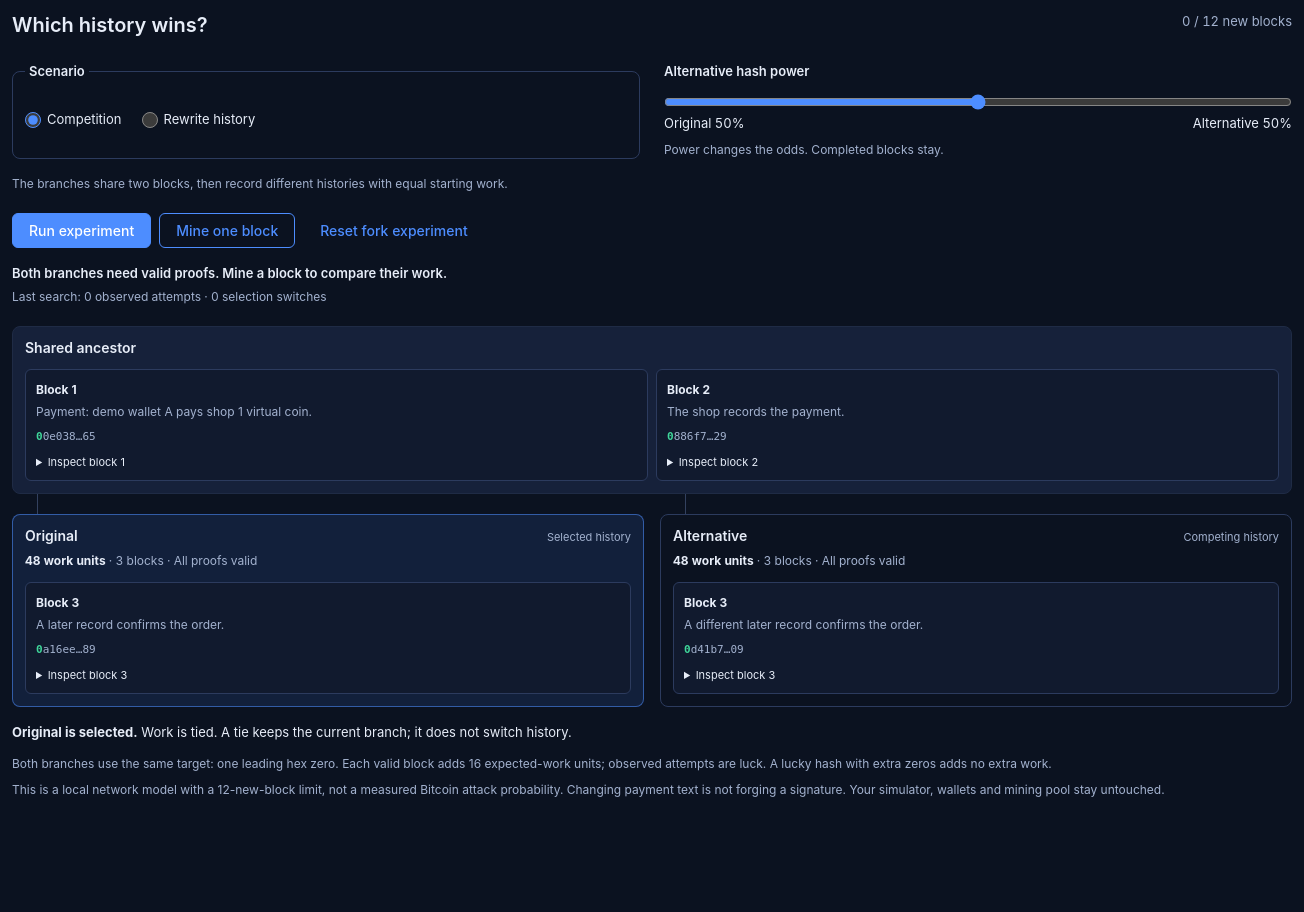
Test: ForkExperiment › requires strictly more work for a rewrite and explains the resulting switch
Click the radio button labelled "Rewrite history" at coordinates (150, 120), box top-left (142, 112), bottom-right (158, 128)
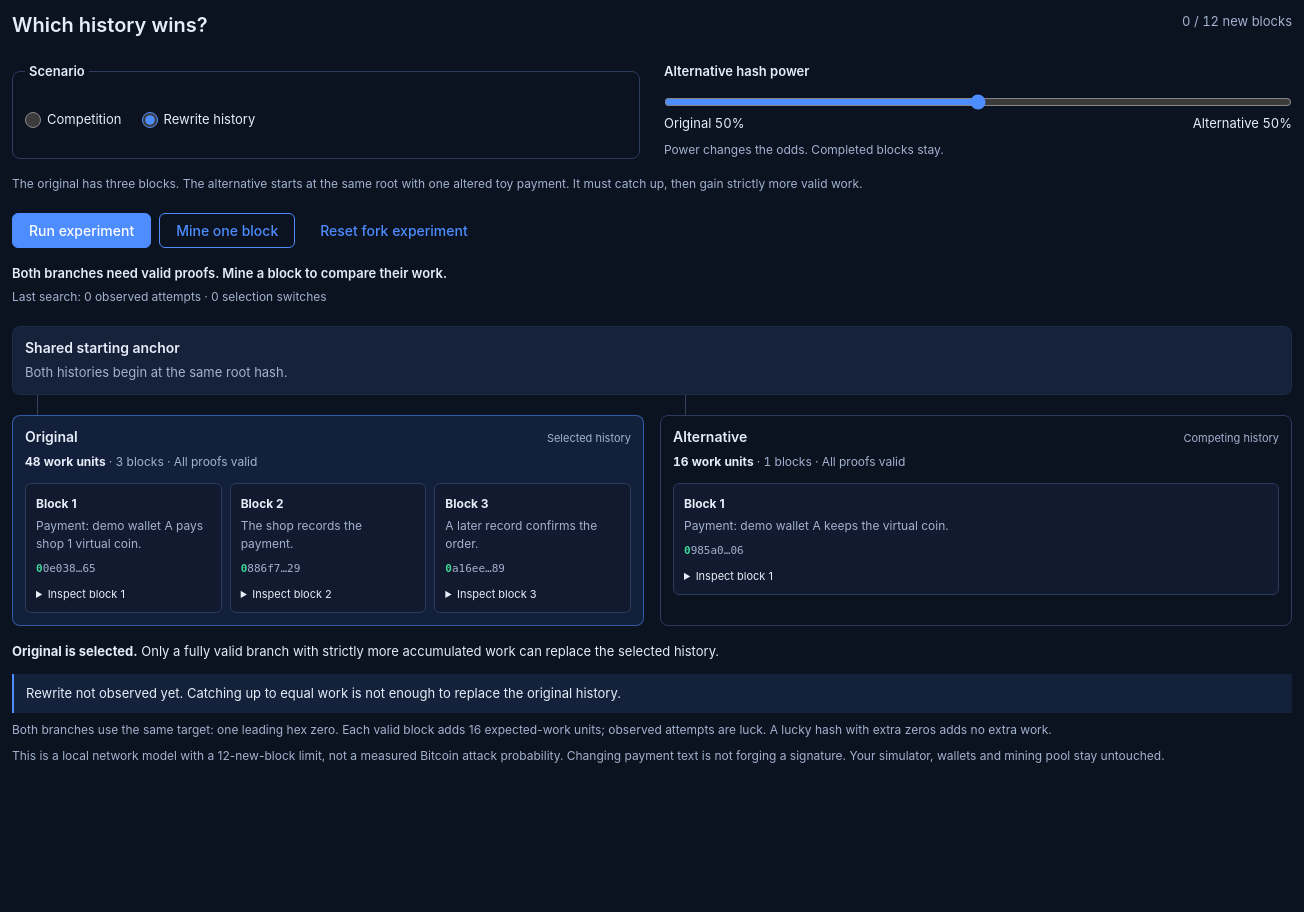
expect the heading "Shared starting anchor" is shown: met, box top-left (25, 338), bottom-right (180, 356)
expect the text "16 work units" is shown: met, box top-left (673, 454), bottom-right (754, 469)
Click the button "Mine one block" at coordinates (227, 230), box top-left (159, 213), bottom-right (295, 248)
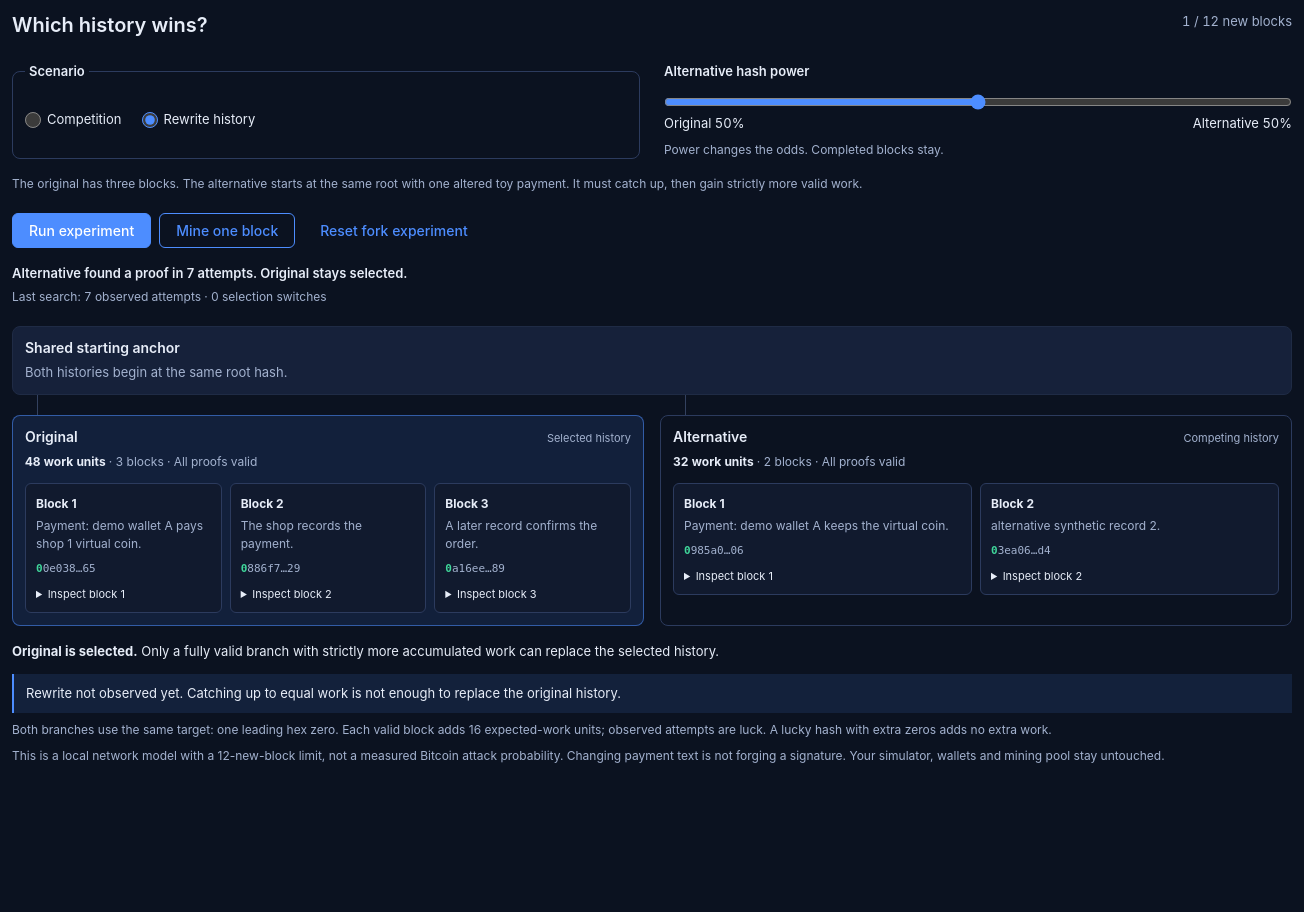
Click the button "Mine one block" at coordinates (227, 230), box top-left (159, 213), bottom-right (295, 248)
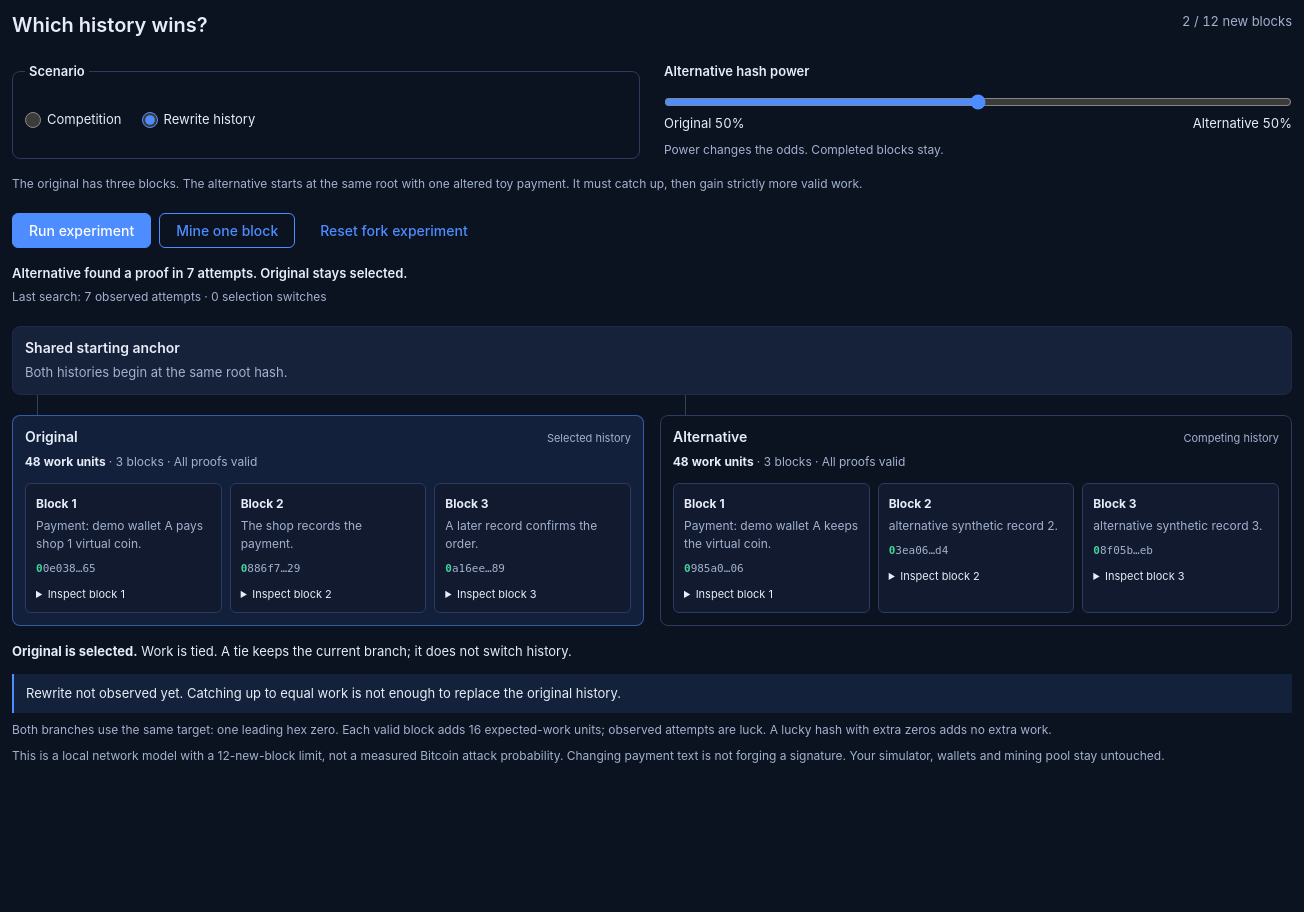
expect the text "Original is selected." is shown: met, box top-left (12, 643), bottom-right (138, 659)
expect the text "Rewrite not observed yet" is shown: met, box top-left (26, 685), bottom-right (621, 701)
expect the text "Work is tied" is shown: met, box top-left (141, 643), bottom-right (572, 659)
Click the button "Mine one block" at coordinates (227, 230), box top-left (159, 213), bottom-right (295, 248)
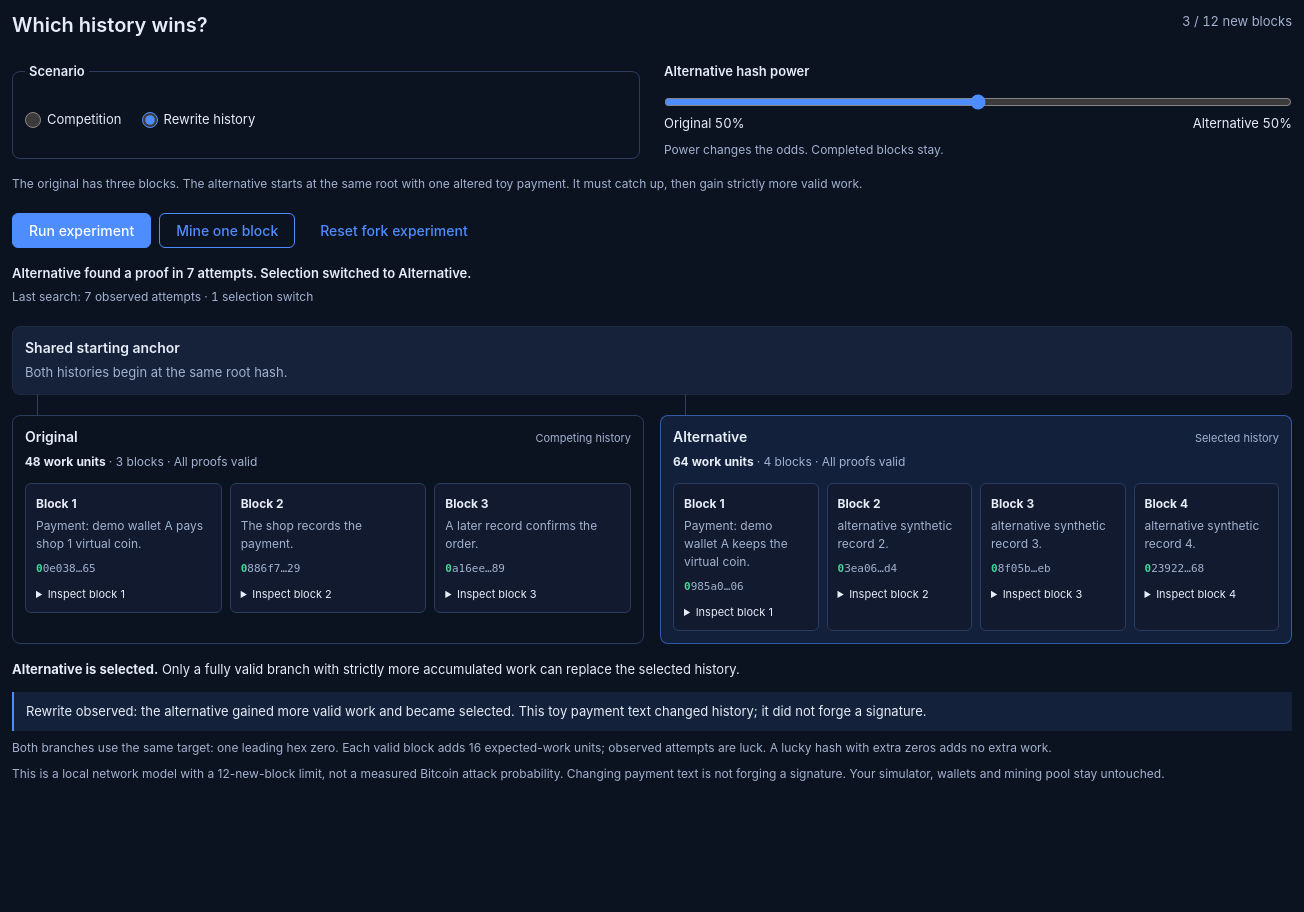
expect the text "Alternative is selected." is shown: met, box top-left (12, 661), bottom-right (158, 677)
expect the text "Rewrite observed:" is shown: met, box top-left (26, 703), bottom-right (927, 719)
